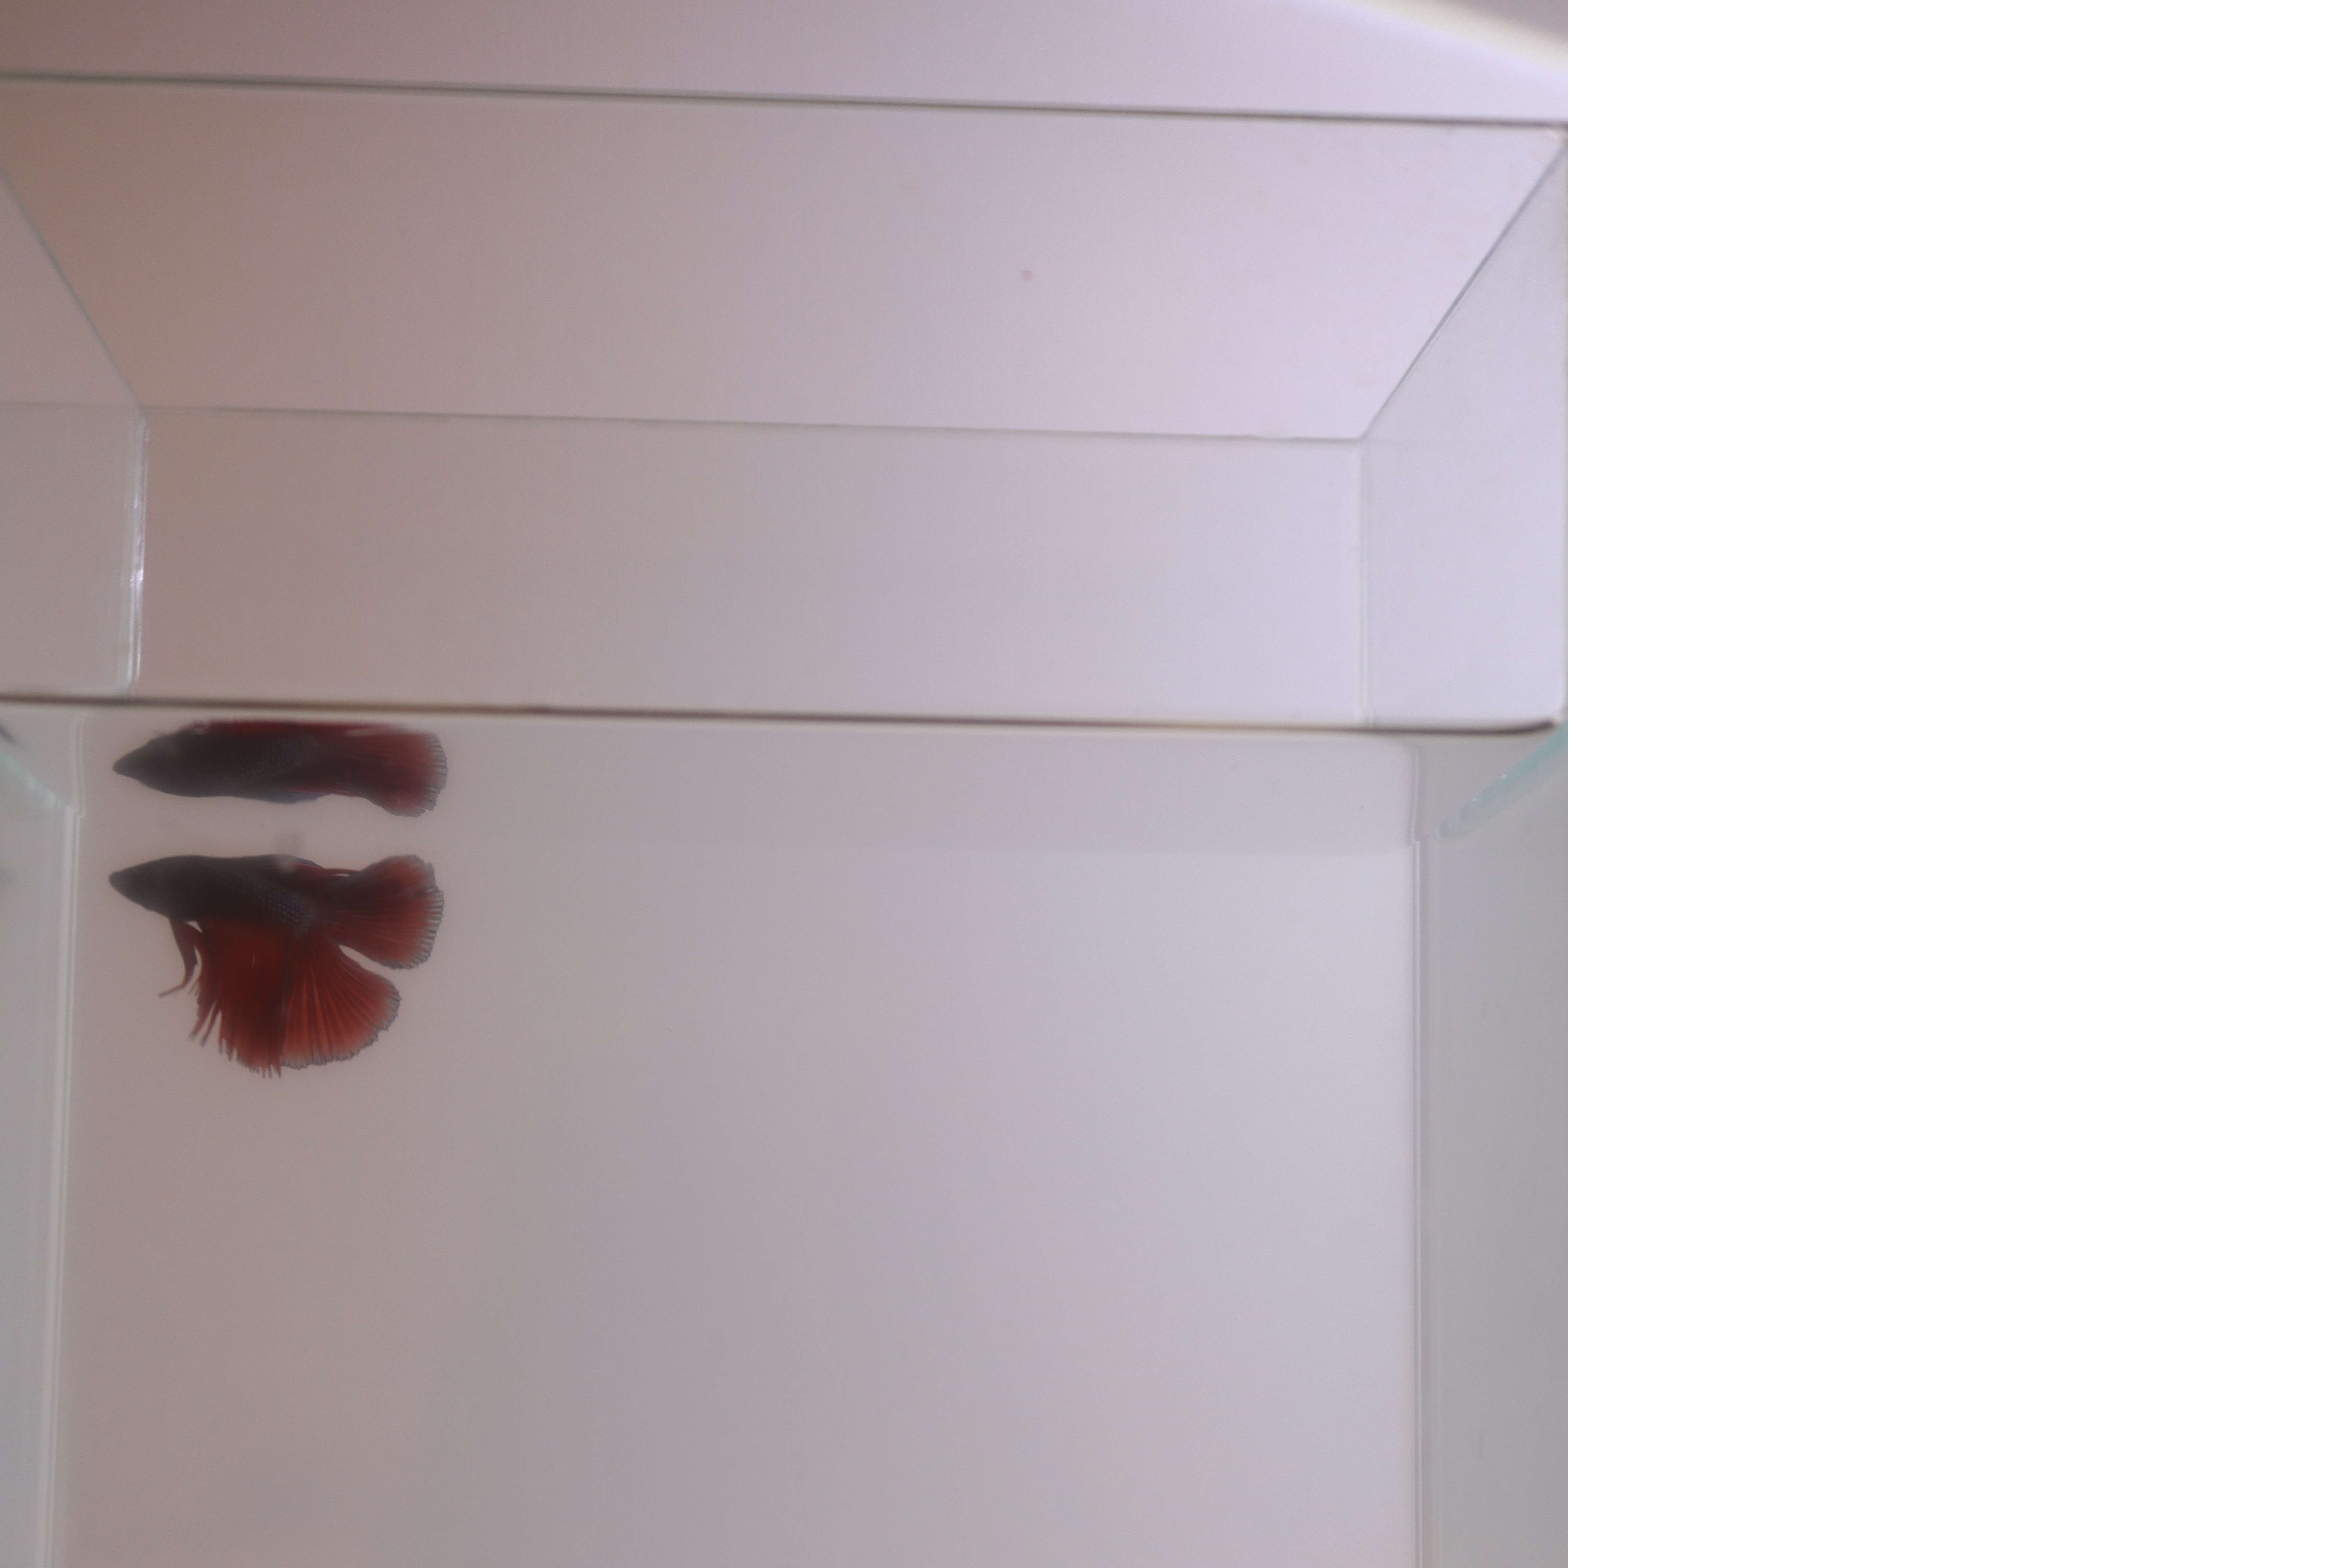fish: (86, 838, 465, 1082)
